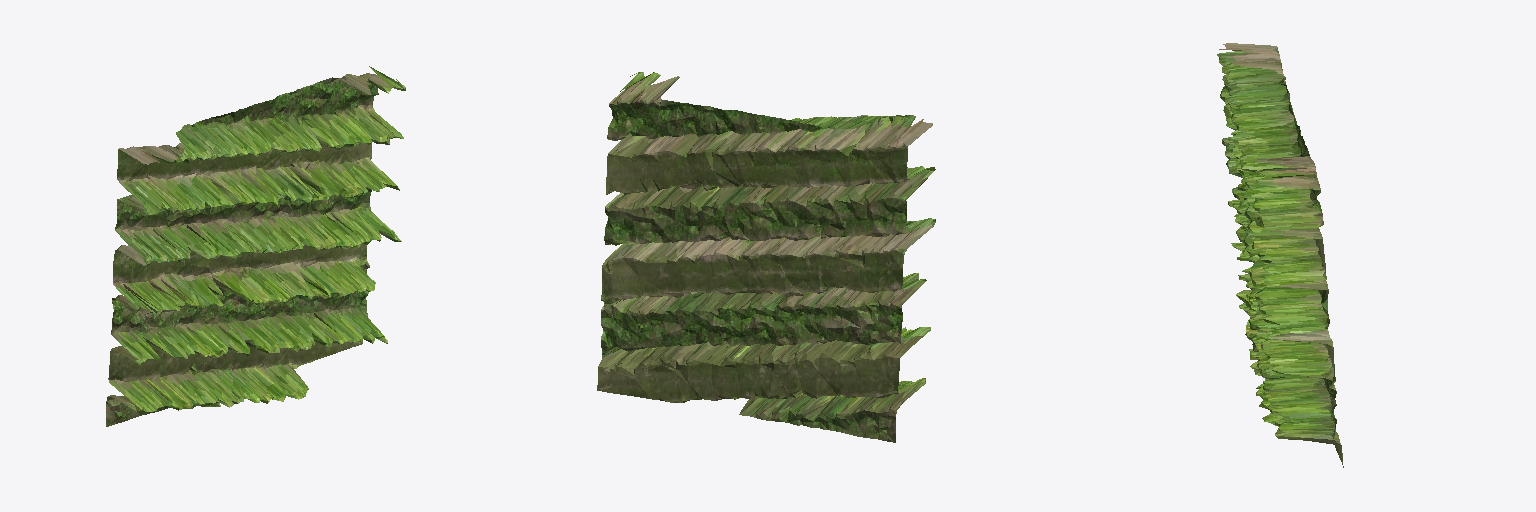
3 renders of one model, left to right at view 1: azimuth 30°, elevation 25°; view 2: azimuth 150°, elevation 25°; view 3: azimuth 270°, elevation 25°, orthographic.
Parts seen in each view (by area): view 1: grp1; view 2: grp1; view 3: grp1.
Boxes of the visible parts, x1=… form: grp1: x1=106, y1=66, x2=405, y2=426; grp1: x1=597, y1=72, x2=935, y2=442; grp1: x1=1217, y1=43, x2=1343, y2=467.
Bounding box in the file's own units: 10 × 10 × 3.98.
Materials: 1 (1 with a texture image).